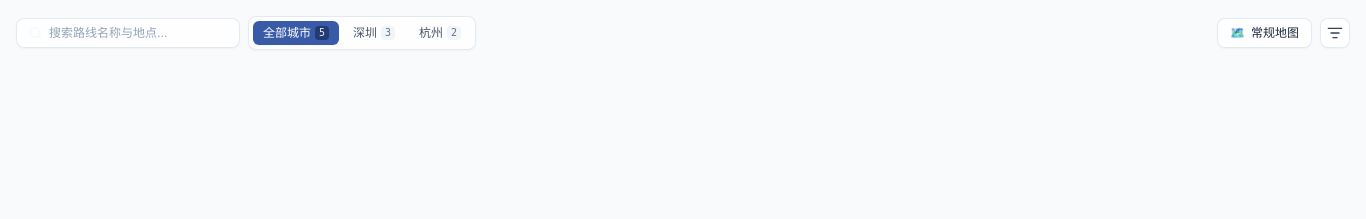
DashboardControls › 图例开关展开与收起
Click the button named "速度图例" at (1335, 33), box [1320,18,1350,48]
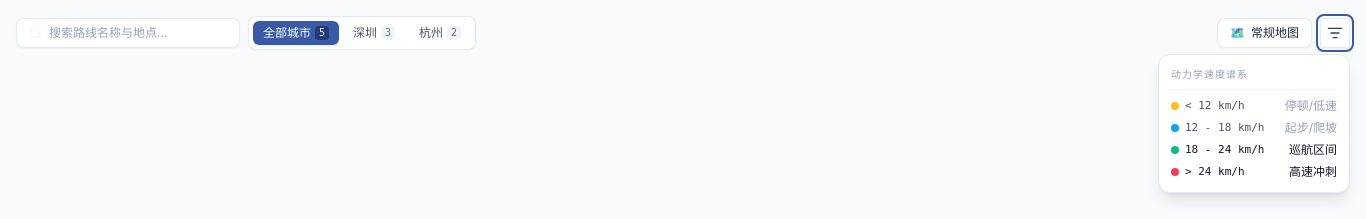
Result: the text "动力学速度谱系" is shown at [1171,67,1337,90]
Click the button named "速度图例" at (1335, 33), box [1320,18,1350,48]
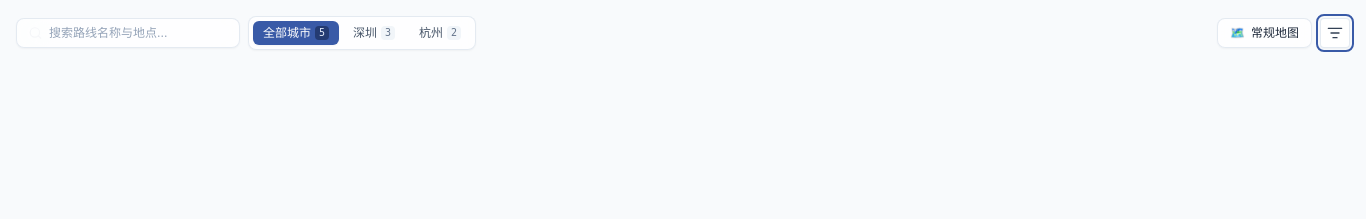
Result: the text "动力学速度谱系" is gone
